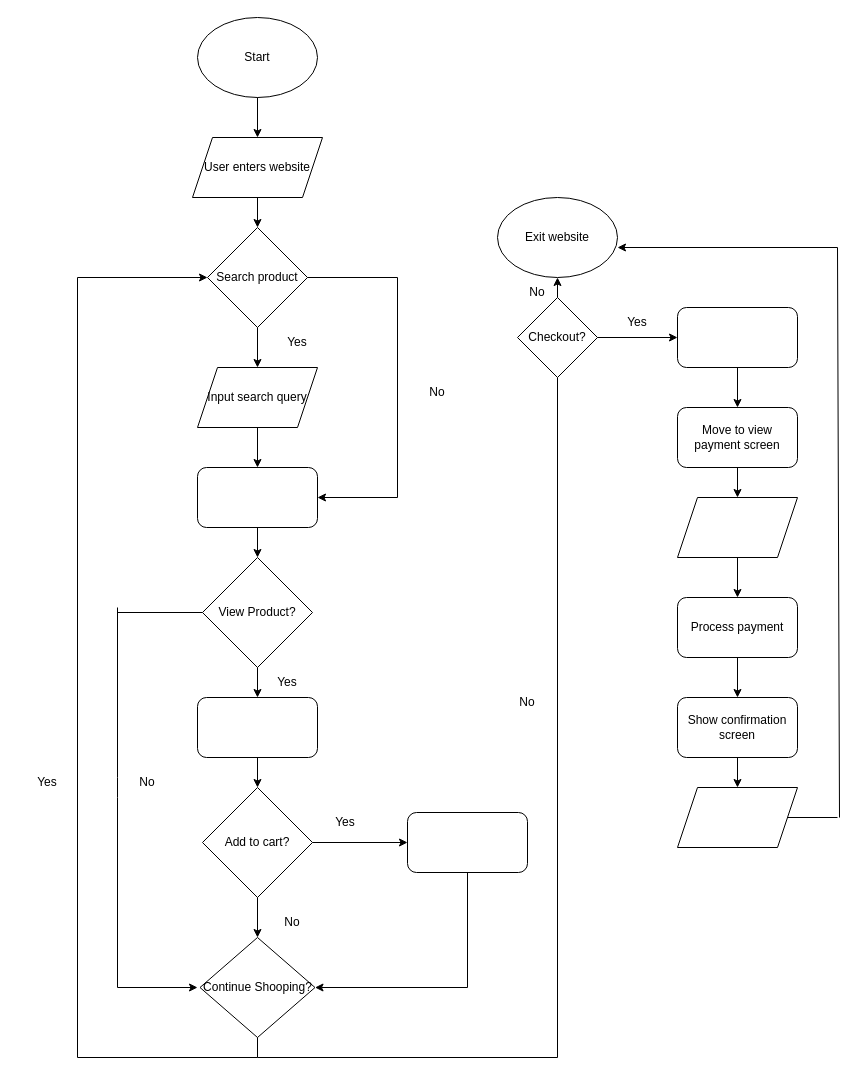
Some shapes in this 863 by 1076 pixel diagram are drawn without their labels. The shapes that lost their labels are listed below. From the top down, each one's centre as x and y in pixels, then its label:
(x=737, y=337): Move to view cart screen
(x=257, y=497): User looks over products
(x=737, y=527): Input payment instructions
(x=257, y=727): Open product webpage
(x=737, y=817): Send confirmation email
(x=467, y=842): Show confirmation "Added to cart"
